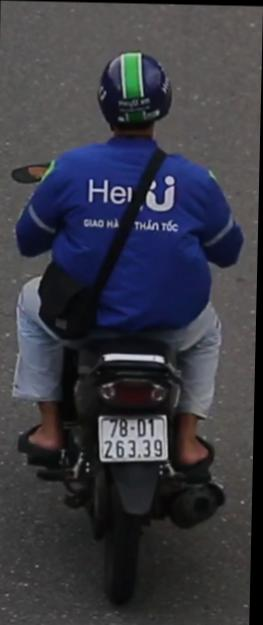LP: (91, 398, 178, 470)
helmet: (90, 46, 177, 157)
